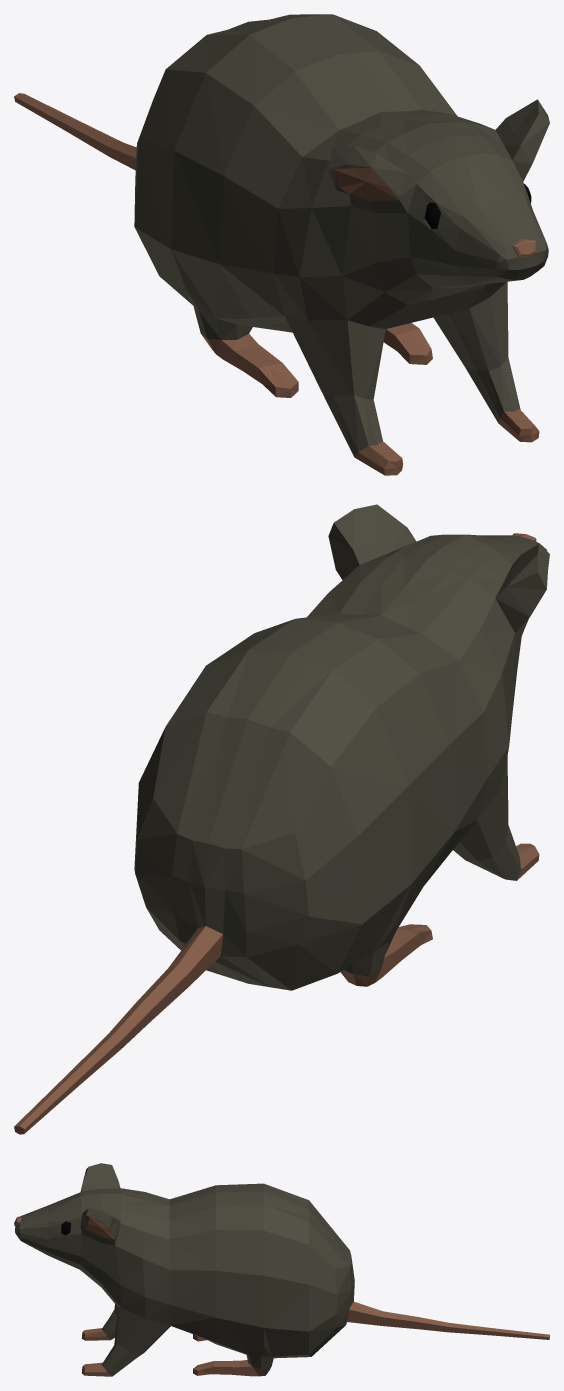
File: TriangulatedRat.fbx
3 views of the same model, one above another, from view 1: azimuth 30°, elevation 25°; view 2: azimuth 150°, elevation 25°; view 3: azimuth 270°, elevation 25° (orthographic). The views are drawn at different scales.
Visible parts, largest first — view 1: TriangulatedRat; view 2: TriangulatedRat; view 3: TriangulatedRat.
Boxes of the visible parts, x1,y1,x2,y2 form: TriangulatedRat: (14, 14, 549, 475); TriangulatedRat: (14, 504, 549, 1134); TriangulatedRat: (14, 1163, 549, 1376).
Size of the model in its own units: 8.56 by 10.93 by 31.39.
